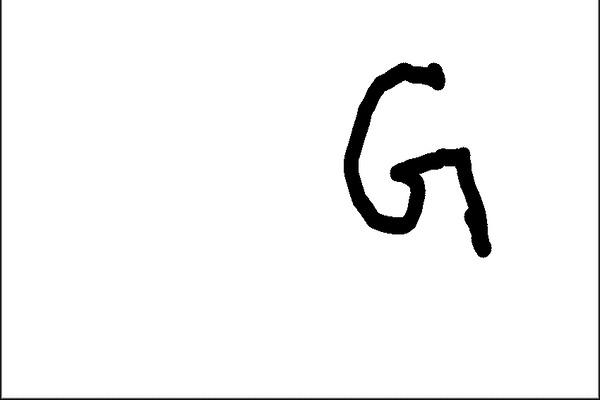G: (340, 57, 496, 261)
